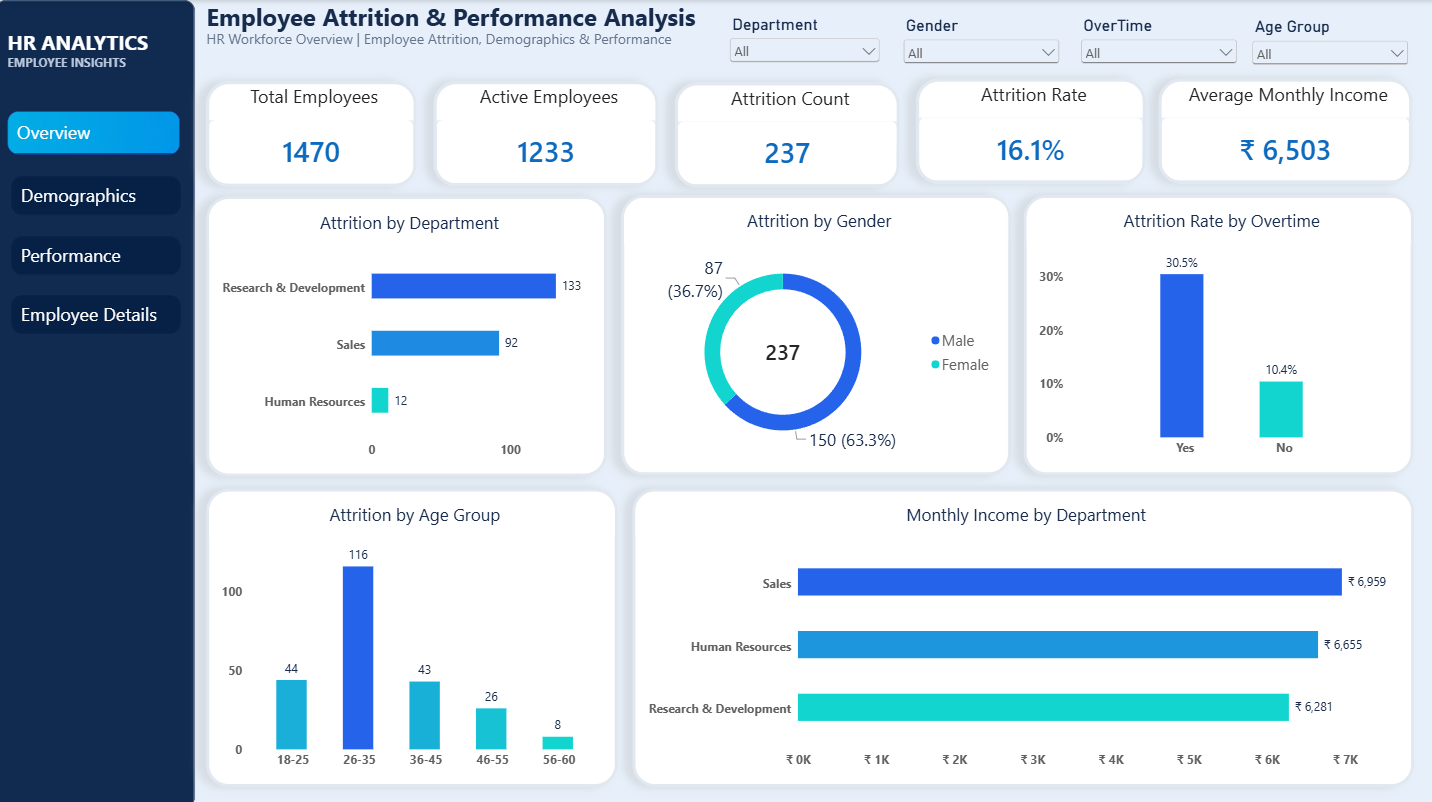

The dashboard page shown, as its layout file describes it:
{"tool":"powerbi","page":{"name":"Overview","canvas":[1920,1080],"ordinal":0},"visuals":[{"type":"shape","box":[0,0,266.9,1079.7],"z":0},{"type":"textbox","box":[17.4,38.4,212.8,40.1],"z":1000},{"type":"textbox","box":[17.4,71.5,183.1,36.6],"z":2000},{"type":"actionButton","box":[17.4,148.3,230.2,57.6],"z":3000},{"type":"actionButton","box":[20.9,235.5,226.7,52.3],"z":4000},{"type":"actionButton","box":[20.9,315.7,226.7,52.3],"z":5000},{"type":"textbox","box":[282,0,754,50],"z":6000},{"type":"textbox","box":[282.6,38.4,818,33.1],"z":7000},{"type":"cardVisual","title":"Total Employees","fields":{"Data":["Employees.Total Employees"]},"box":[282.3,108.6,280.5,141.2],"z":8000},{"type":"cardVisual","title":"\tActive Employees","fields":{"Data":["Employees.Active Employees"]},"box":[586.3,108.6,300,140],"z":9000},{"type":"cardVisual","title":"\tAttrition Count","fields":{"Data":["Employees.Attrition Count"]},"box":[908.4,110.4,300,140],"z":10000},{"type":"cardVisual","title":"Attrition Rate","fields":{"Data":["Employees.Attrition Rate"]},"box":[1230,106,306,140],"z":11000},{"type":"cardVisual","title":"\tAverage Monthly Income","fields":{"Data":["Employees.Average Monthly Income"]},"box":[1554,106,338,140],"z":12000},{"type":"clusteredBarChart","title":"Attrition by Department","fields":{"Category":["Employees.Department"],"Y":["Employees.Attrition Count"]},"box":[282.3,262.4,535,374.3],"z":13000},{"type":"donutChart","title":"Attrition by Gender","fields":{"Category":["Employees.Gender"],"Y":["Employees.Attrition Count"]},"box":[837.2,259.9,520.8,374.3],"z":14000},{"type":"clusteredColumnChart","title":"Attrition by Age Group","fields":{"Category":["Employees.Age Group"],"Y":["Employees.Attrition Count"]},"box":[282.6,652.3,549.3,398.7],"z":15000},{"type":"clusteredColumnChart","title":"Attrition Rate by Overtime","fields":{"Category":["Employees.OverTime"],"Y":["Employees.Attrition Rate"]},"box":[1374.4,259.9,520.8,374.3],"z":16000},{"type":"clusteredBarChart","title":"Monthly Income by Department","fields":{"Category":["Employees.Department"],"Y":["Employees.Average Monthly Income"]},"box":[851.2,652.3,1043.6,398.7],"z":17000},{"type":"slicer","fields":{"Values":["Employees.Department"]},"box":[977.2,19.9,210,65],"z":18000},{"type":"slicer","fields":{"Values":["Employees.Gender"]},"box":[1208.9,21.7,217.7,63.1],"z":19000},{"type":"slicer","fields":{"Values":["Employees.OverTime"]},"box":[1445.9,21.7,217.7,63.1],"z":20000},{"type":"slicer","fields":{"Values":["Employees.Age Group"]},"box":[1674.8,23.4,217.7,63.1],"z":21000},{"type":"actionButton","box":[21.7,394.5,226.7,52.3],"z":22000}]}

Visuals, with their boxes in screenshot pixels (x1, y1, x2, y2), scaled from the page's 1920x1080 canvas onto the 1432x802 screenshot:
shape: region(0, 0, 199, 801)
textbox: region(13, 29, 172, 58)
textbox: region(13, 53, 150, 80)
actionButton: region(13, 110, 185, 153)
actionButton: region(16, 175, 185, 214)
actionButton: region(16, 234, 185, 273)
textbox: region(210, 0, 773, 37)
textbox: region(211, 29, 821, 53)
"Total Employees" cardVisual: region(211, 81, 420, 185)
"	Active Employees" cardVisual: region(437, 81, 661, 185)
"	Attrition Count" cardVisual: region(678, 82, 901, 186)
"Attrition Rate" cardVisual: region(917, 79, 1146, 183)
"	Average Monthly Income" cardVisual: region(1159, 79, 1411, 183)
"Attrition by Department" clusteredBarChart: region(211, 195, 610, 473)
"Attrition by Gender" donutChart: region(624, 193, 1013, 471)
"Attrition by Age Group" clusteredColumnChart: region(211, 484, 620, 780)
"Attrition Rate by Overtime" clusteredColumnChart: region(1025, 193, 1414, 471)
"Monthly Income by Department" clusteredBarChart: region(635, 484, 1413, 780)
slicer - Employees.Department: region(729, 15, 885, 63)
slicer - Employees.Gender: region(902, 16, 1064, 63)
slicer - Employees.OverTime: region(1078, 16, 1241, 63)
slicer - Employees.Age Group: region(1249, 17, 1411, 64)
actionButton: region(16, 293, 185, 332)
